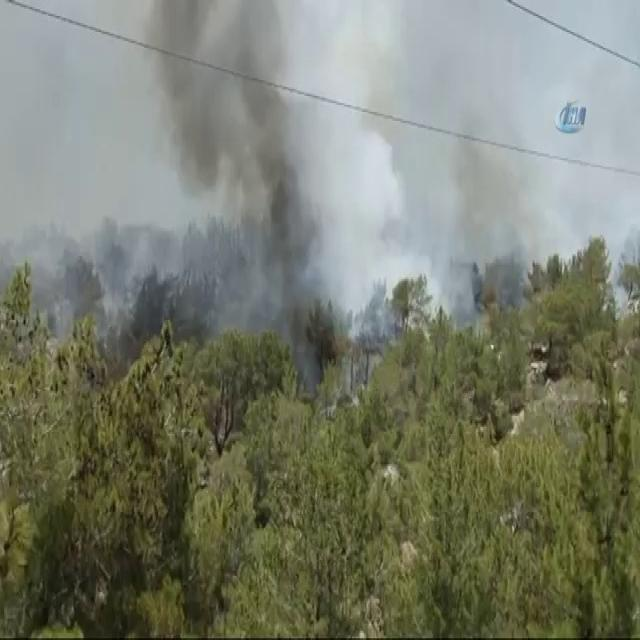Smoke: (148, 38, 538, 304)
